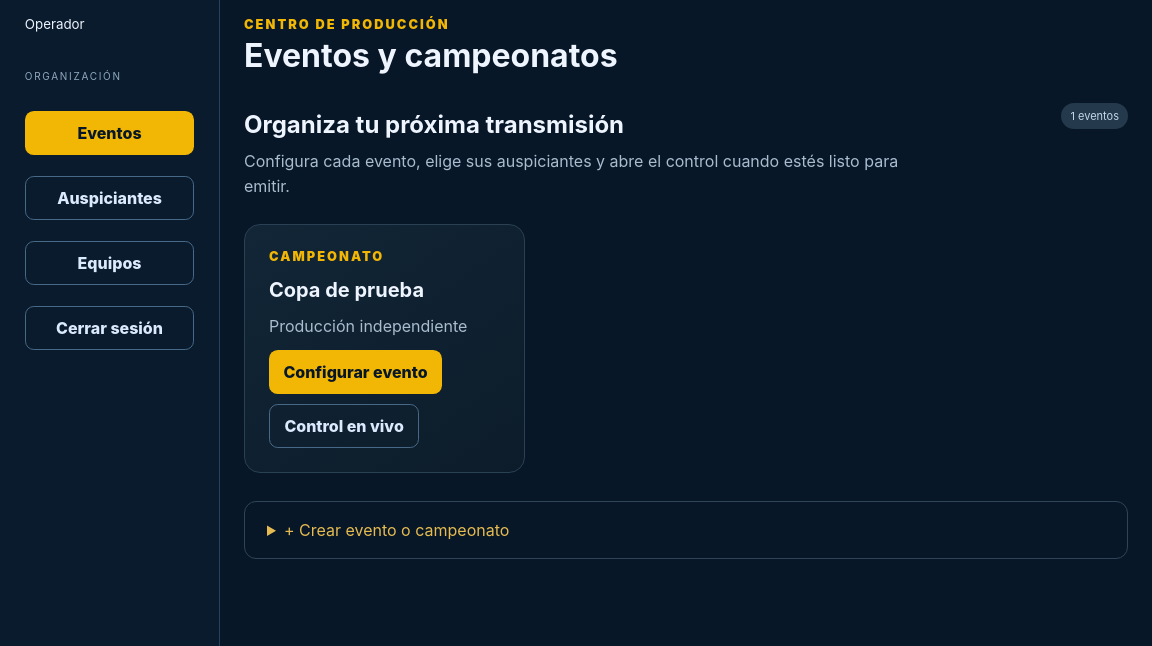
Scenario: un backend sin la ruta de eliminación informa el problema en lugar de un error genérico
The image size is (1152, 646).
Click the button "Configurar evento". click: (356, 372)
box: [269,350,442,394]
(page scrolled)
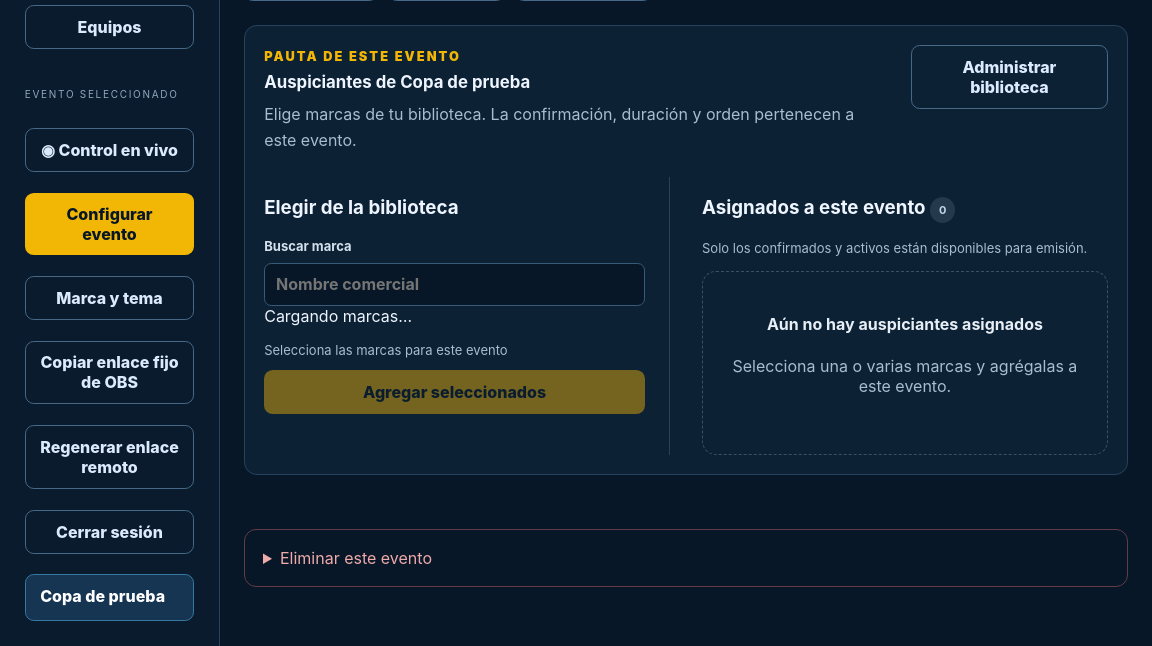
Click the heading "Eliminar este evento". click: (356, 558)
box: [280,548,432,568]
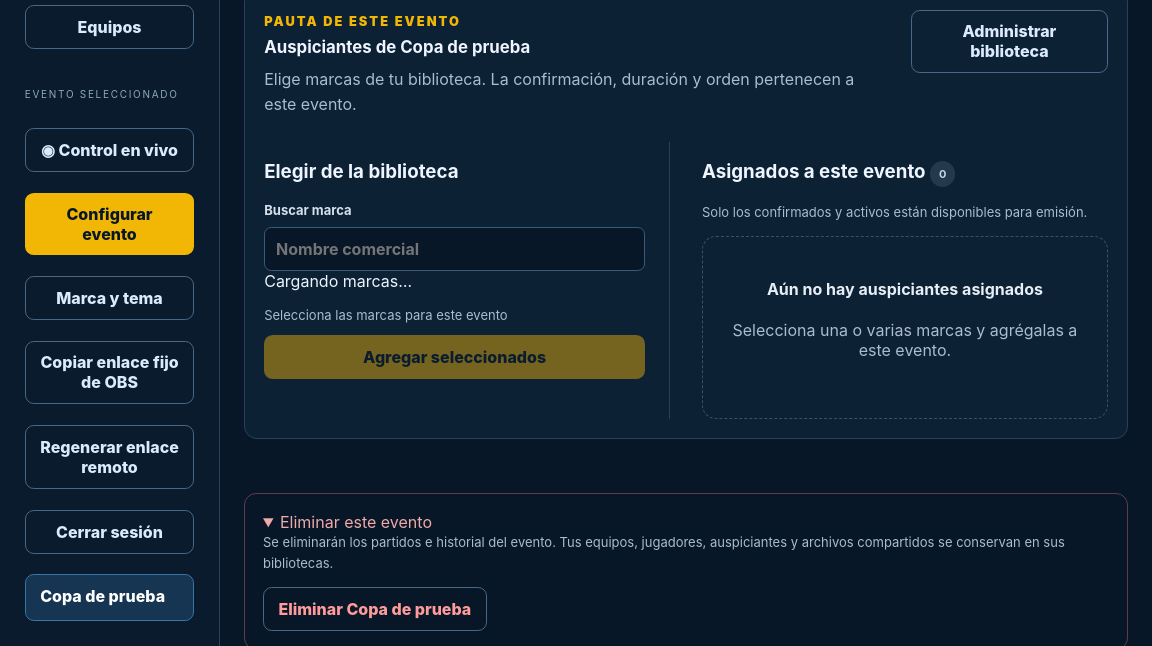
Click the button "Eliminar Copa de prueba". click: (375, 609)
box: [263,587,487,631]
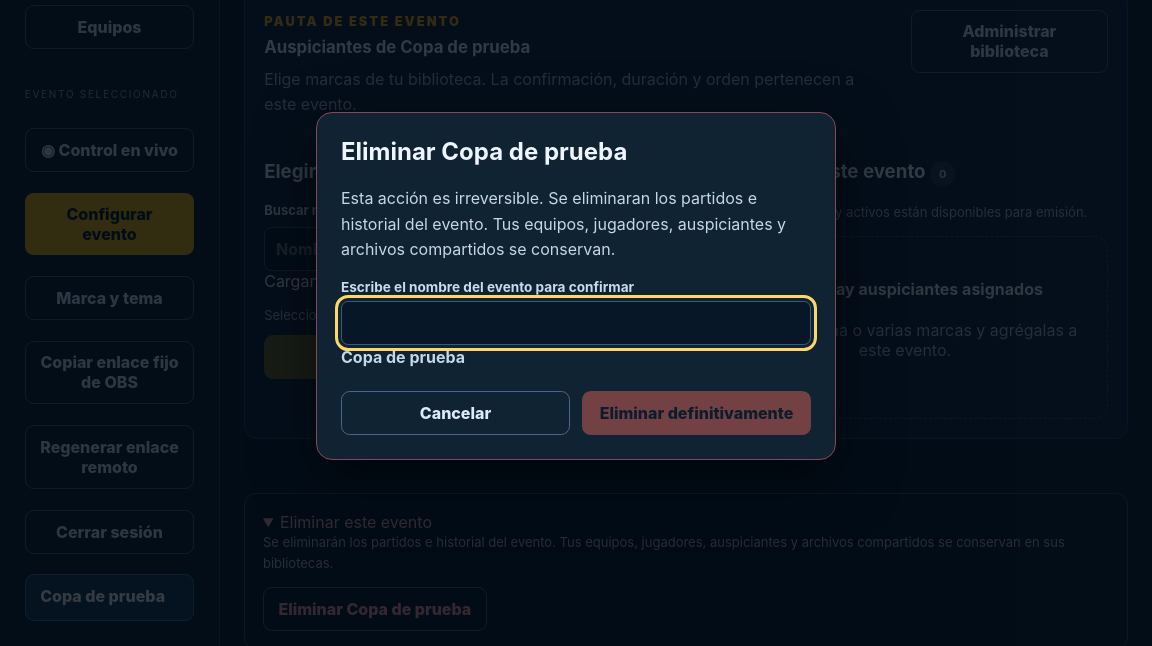
Type "Copa de prueba" into the field labelled "Escribe el nombre del evento para confirmar". click: (576, 323)
box: [341,301,811,345]
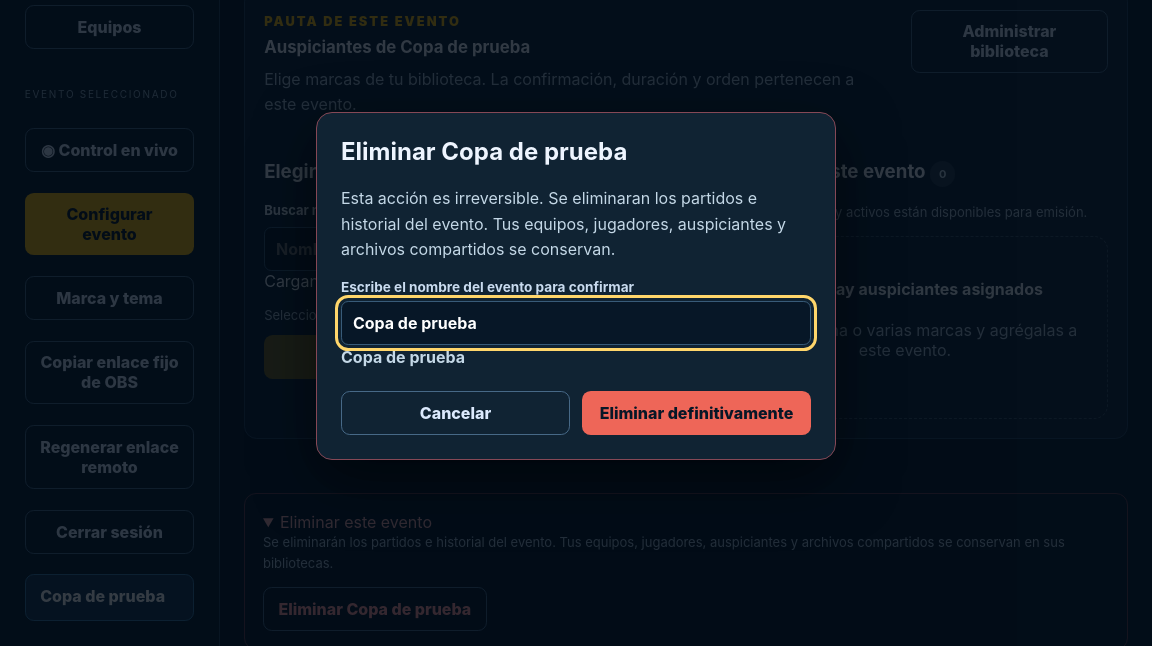
Click the button "Eliminar definitivamente". click: (696, 413)
box: [582,391,811,435]
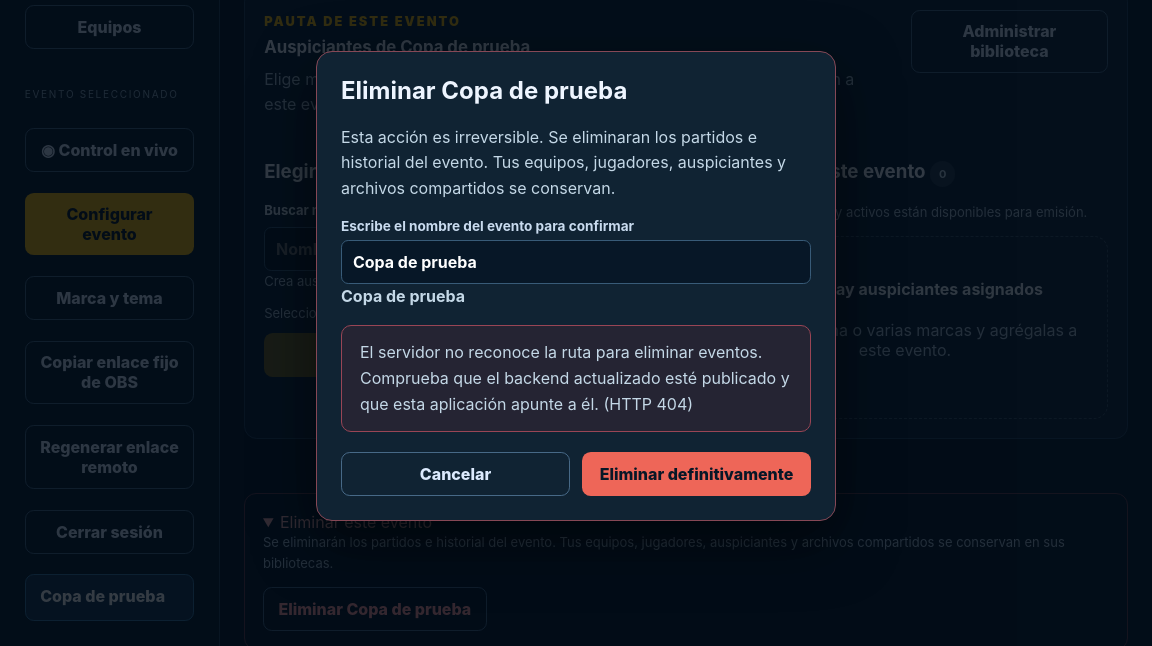
Expected: the message shows "El servidor no reconoce la ruta para eliminar eventos", [360,342,790,414]
Expected: the message shows "HTTP 404", [360,342,790,414]
